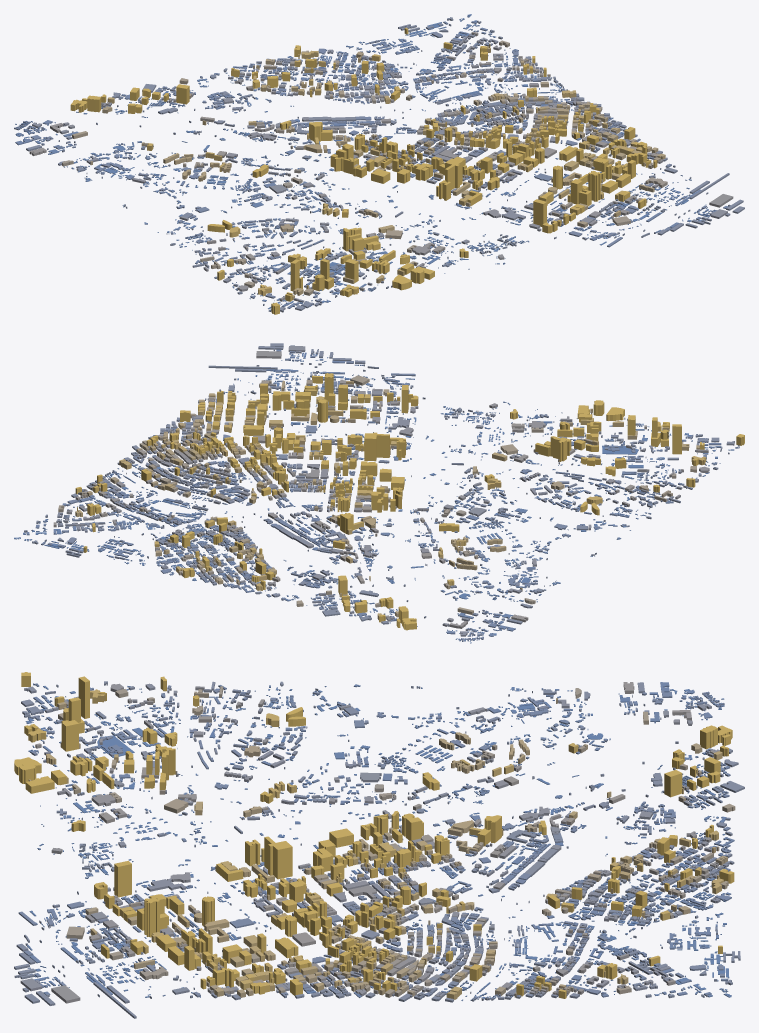
Rendered from buildings.glb.
3 views of the same model, one above another, from view 1: azimuth 30°, elevation 25°; view 2: azimuth 150°, elevation 25°; view 3: azimuth 270°, elevation 25° (orthographic). The views are drawn at different scales.
Parts seen in each view (by area): view 1: buildings; view 2: buildings; view 3: buildings.
Boxes of the visible parts, x1,y1,x2,y2 form: buildings: (14,14,744,314); buildings: (14,343,744,643); buildings: (14,672,744,1018).
Bounding box in the file's own units: 2856 × 218 × 2703.
